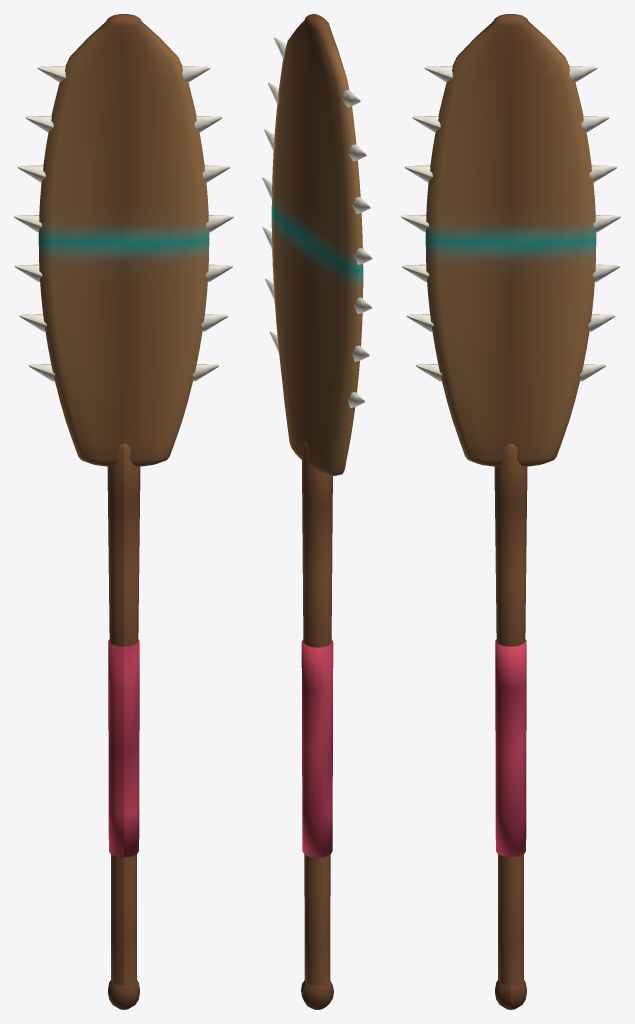
The model's file is club.glb.
The picture shows the model from 3 angles, left to right: view 1: azimuth 90°, elevation 25°; view 2: azimuth 210°, elevation 25°; view 3: azimuth 270°, elevation 25°; orthographic projection.
Parts seen in each view (by area): view 1: club; view 2: club; view 3: club.
Boxes of the visible parts, left/top/right/bottom form: club: left=14, top=14, right=233, bottom=1009; club: left=262, top=14, right=372, bottom=1009; club: left=401, top=14, right=620, bottom=1009.
Bounding box in the file's own units: 0.052 × 1.7 × 0.3412.
